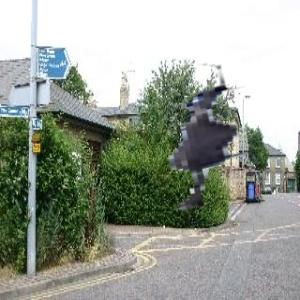drone: (81, 55, 280, 254)
